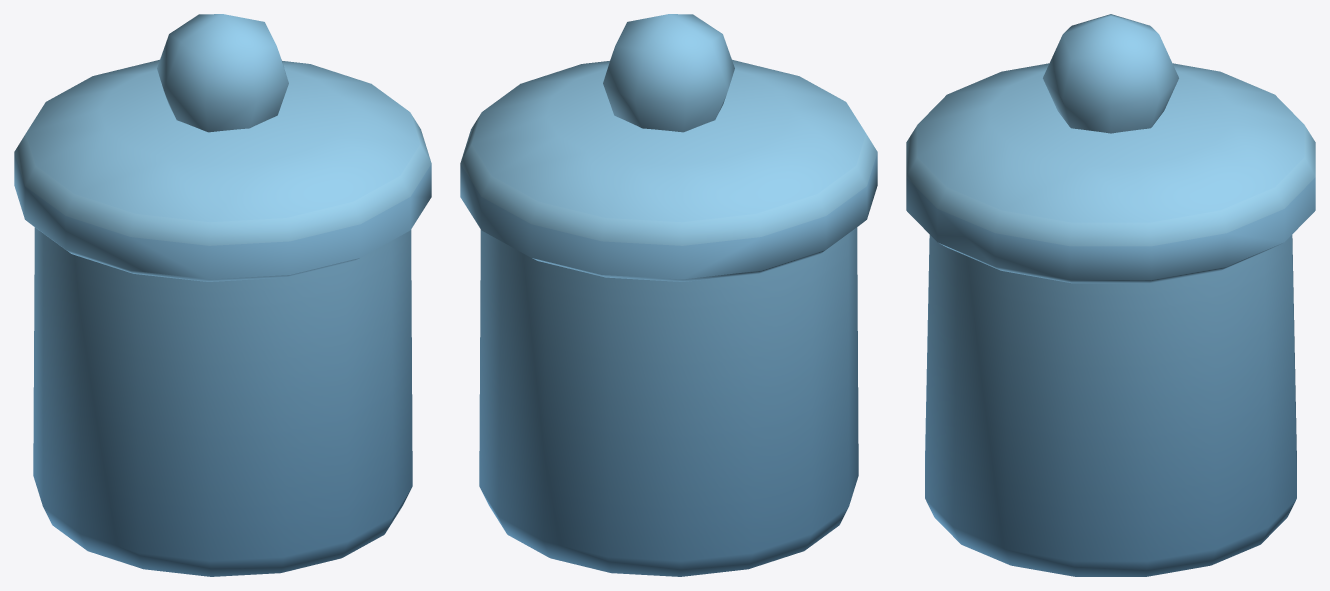
File: Container Kitchen A.glb
The picture shows the model from 3 angles, left to right: view 1: azimuth 30°, elevation 25°; view 2: azimuth 150°, elevation 25°; view 3: azimuth 270°, elevation 25°; orthographic projection.
Visible parts, largest first — view 1: container_kitchen_A_blue; view 2: container_kitchen_A_blue; view 3: container_kitchen_A_blue.
Boxes of the visible parts, x1,y1,x2,y2 form: container_kitchen_A_blue: [14, 14, 431, 576]; container_kitchen_A_blue: [460, 14, 877, 576]; container_kitchen_A_blue: [906, 14, 1315, 576].
Bounding box in the file's own units: 0.4 × 0.5329 × 0.4.
1 material, 1 textured.
